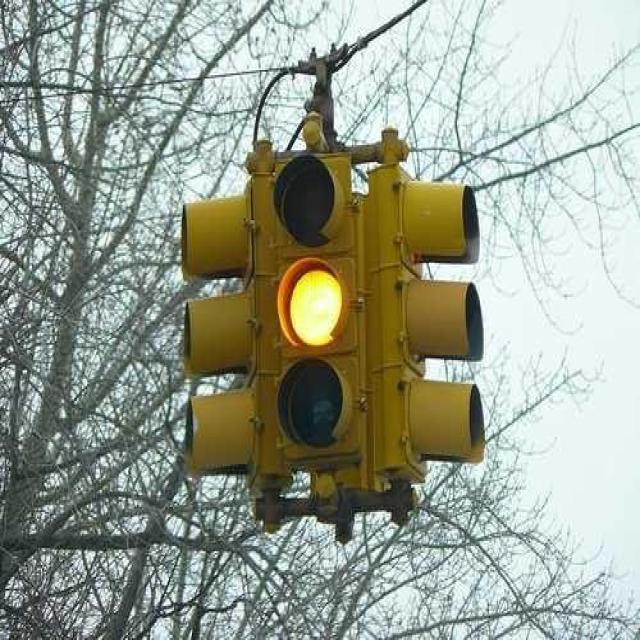Traffic Light -Yellow-: (264, 151, 378, 472), (272, 249, 350, 353)
